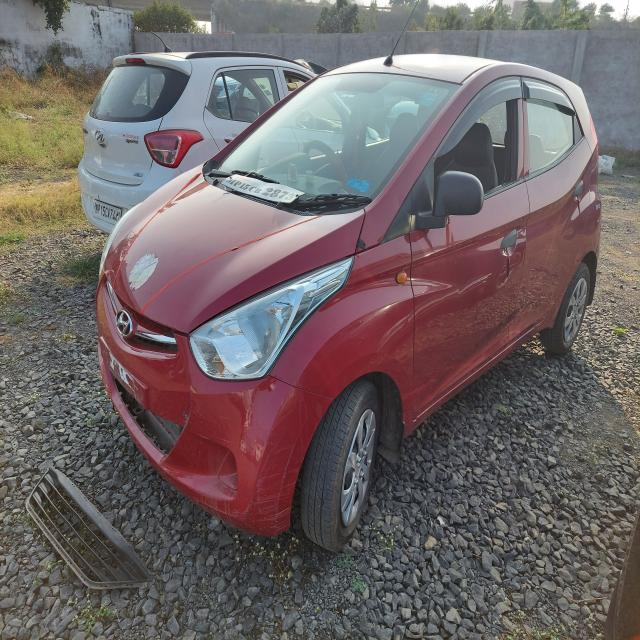damage: (100, 366, 194, 472), (496, 256, 522, 287)
